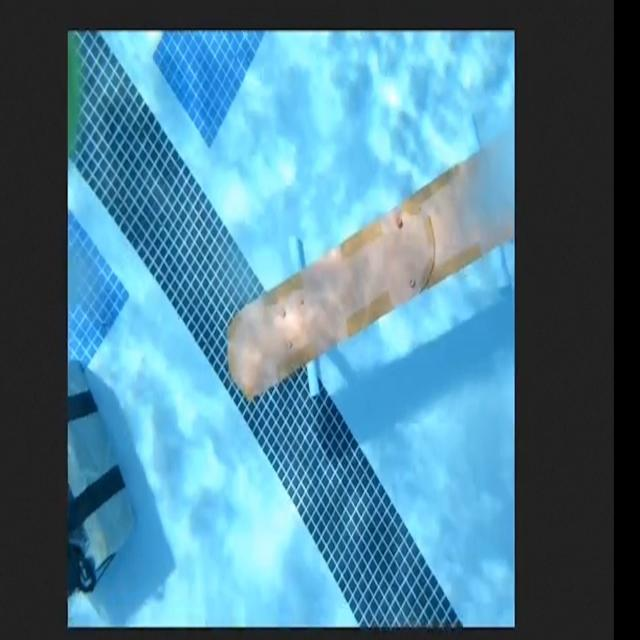Path: (226, 128, 513, 443)
